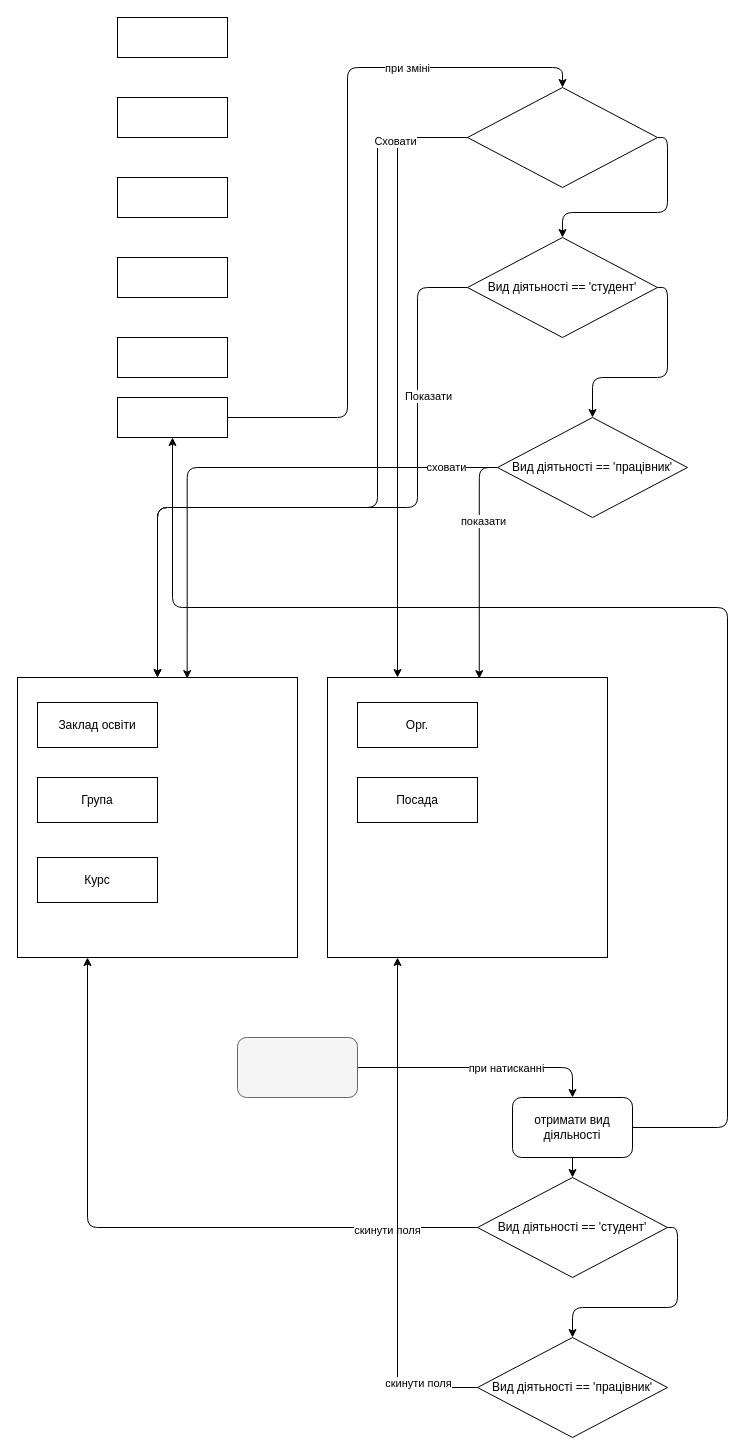
This 753x1455 diagram has some shape labels left out. Each missing label, with the centre of its shape:
Reset: the point at 297,1067
Вид діятьності: the point at 172,417
Вид діятьності == '---': the point at 562,137
